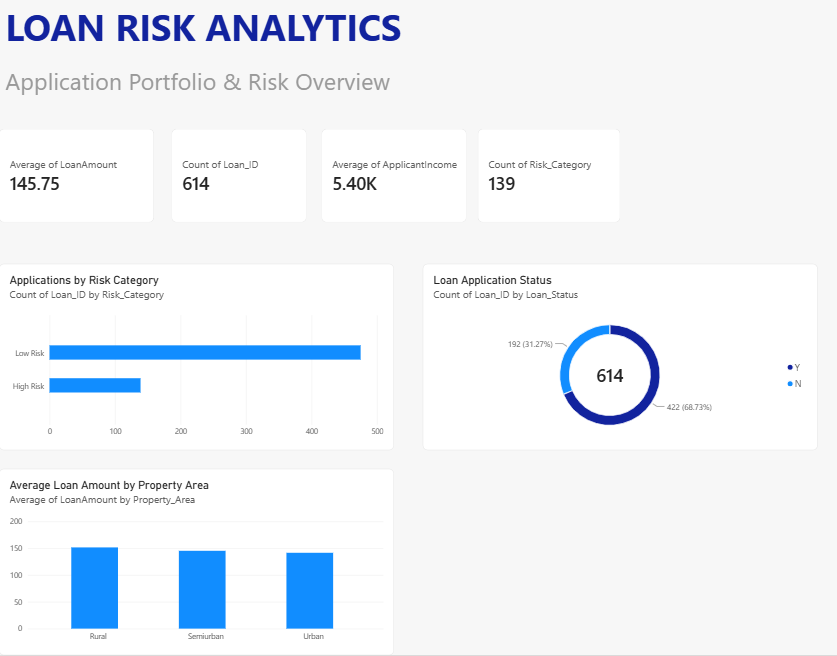

The page's visual inventory and layout, read from the dashboard file:
{"tool":"powerbi","page":{"name":"Page 1","canvas":[1920,1080],"ordinal":0},"visuals":[{"type":"textbox","box":[10,16,756,102],"z":0},{"type":"textbox","box":[10,118,755.4,82.3],"z":1000},{"type":"cardVisual","fields":{"Data":["Avg(powerbi_dataset.LoanAmount)"]},"box":[0,238,248,150],"z":2000},{"type":"cardVisual","fields":{"Data":["CountNonNull(powerbi_dataset.Loan_ID)"]},"box":[276,238,216,150],"z":3000},{"type":"cardVisual","fields":{"Data":["Avg(powerbi_dataset.ApplicantIncome)"]},"box":[516,238,232,150],"z":4000},{"type":"cardVisual","fields":{"Data":["CountNonNull(powerbi_dataset.Risk_Category)"]},"box":[766,238,228,150],"z":5000},{"type":"clusteredBarChart","title":"Applications by Risk Category","fields":{"Category":["powerbi_dataset.Risk_Category"],"Y":["CountNonNull(powerbi_dataset.Loan_ID)"]},"box":[0,454,632,298],"z":5001},{"type":"donutChart","title":"Loan Application Status","fields":{"Category":["powerbi_dataset.Loan_Status"],"Y":["CountNonNull(powerbi_dataset.Loan_ID)"]},"box":[678,454,632,298],"z":5002},{"type":"clusteredColumnChart","title":"Average Loan Amount by Property Area","fields":{"Category":["powerbi_dataset.Property_Area"],"Y":["Avg(powerbi_dataset.LoanAmount)"]},"box":[0,782,632,298],"z":5003}]}

Visuals, with their boxes on the page's 1920x1080 design canvas (x1, y1, x2, y2). These are canvas units, not pixel positions in the 837x656 screenshot, which may show the page scaled, cropped or inside an application window:
textbox: BBox(10, 16, 766, 118)
textbox: BBox(10, 118, 765, 200)
cardVisual - Avg(powerbi_dataset.LoanAmount): BBox(0, 238, 248, 388)
cardVisual - CountNonNull(powerbi_dataset.Loan_ID): BBox(276, 238, 492, 388)
cardVisual - Avg(powerbi_dataset.ApplicantIncome): BBox(516, 238, 748, 388)
cardVisual - CountNonNull(powerbi_dataset.Risk_Category): BBox(766, 238, 994, 388)
"Applications by Risk Category" clusteredBarChart: BBox(0, 454, 632, 752)
"Loan Application Status" donutChart: BBox(678, 454, 1310, 752)
"Average Loan Amount by Property Area" clusteredColumnChart: BBox(0, 782, 632, 1080)
